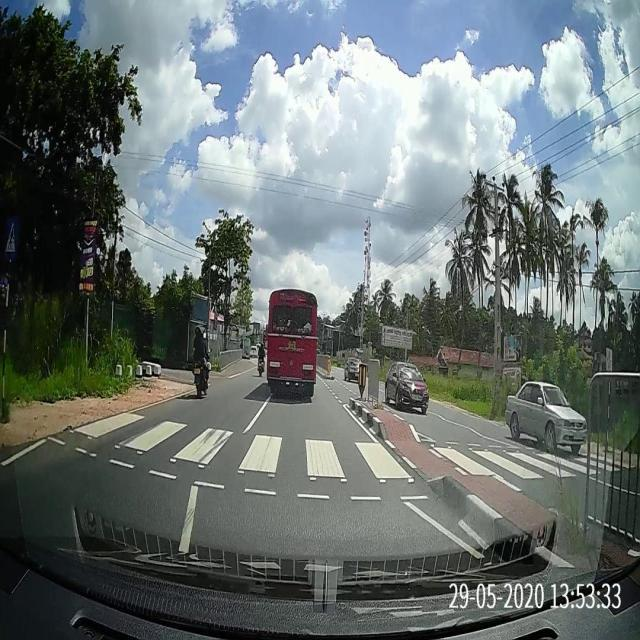Crosswalk: (39, 409, 638, 506)
